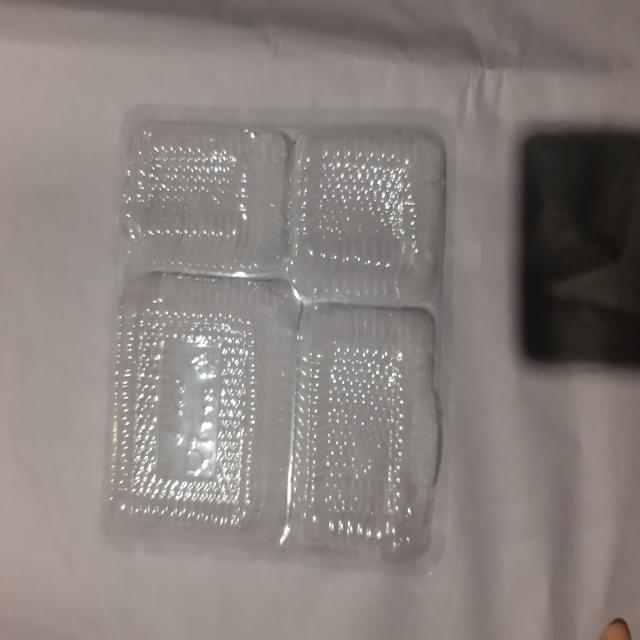KemasanPlastik: (106, 111, 448, 561)
